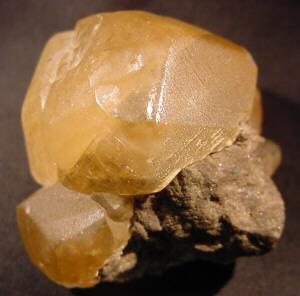calcite: (17, 11, 258, 288)
